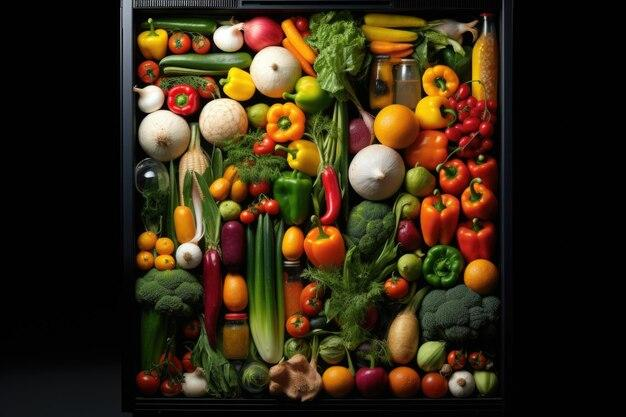bell pepper: (260, 90, 311, 146), (404, 137, 452, 186), (418, 197, 460, 243), (274, 182, 316, 226), (458, 223, 505, 261), (413, 95, 458, 130), (424, 252, 468, 285), (419, 67, 460, 100), (462, 172, 492, 217), (314, 220, 344, 263), (438, 161, 470, 194), (171, 83, 203, 115), (142, 27, 172, 57)
brocolli: (136, 271, 207, 370), (424, 283, 509, 353), (346, 191, 417, 273), (324, 253, 373, 340)
carror: (276, 13, 340, 84)
carrot: (268, 13, 332, 81), (366, 36, 416, 67)
tomato: (448, 68, 492, 168), (417, 362, 452, 407), (300, 263, 327, 315), (284, 299, 317, 339), (240, 191, 287, 218), (177, 34, 210, 51), (143, 66, 169, 87)
